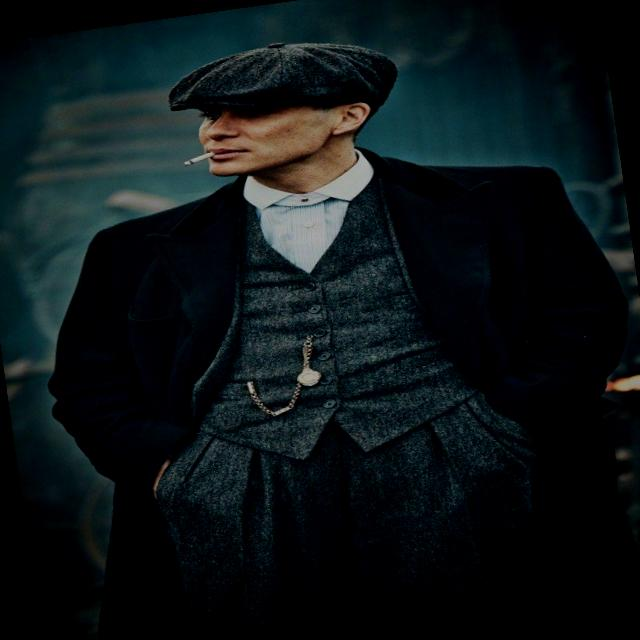smoke: (159, 146, 224, 174)
